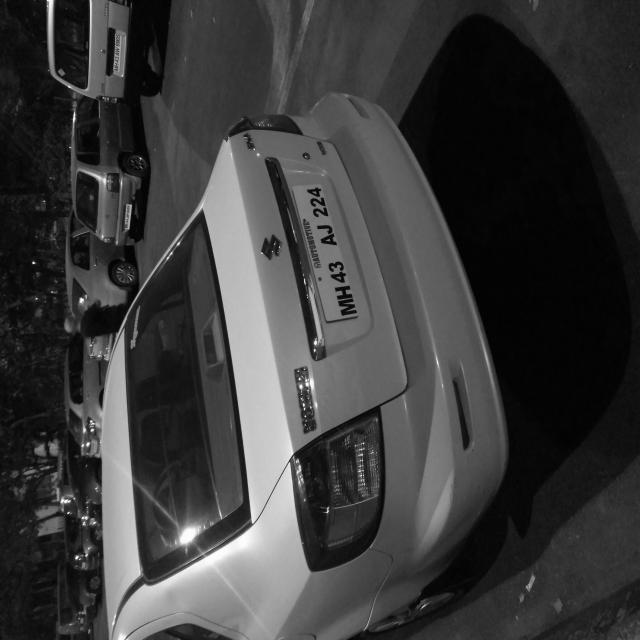car: (0, 129, 418, 640), (295, 95, 408, 189)
license-plate: (230, 382, 348, 488), (426, 150, 455, 164), (308, 162, 327, 177)
